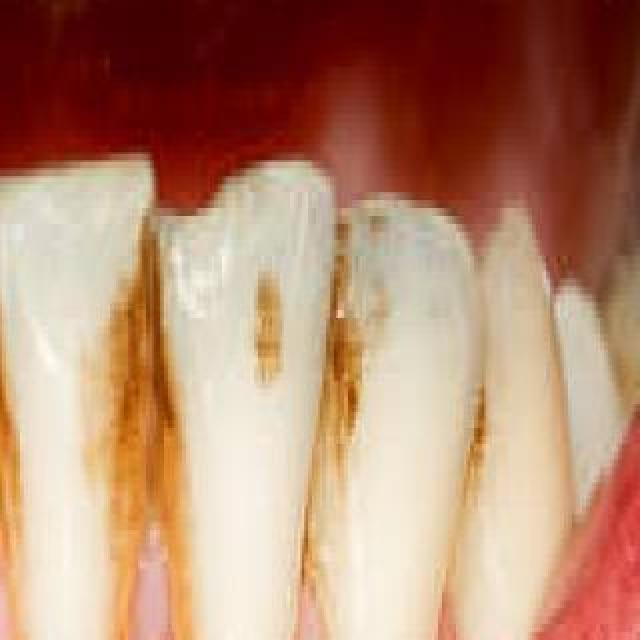stains: (77, 208, 193, 640), (215, 200, 301, 640), (310, 215, 392, 551), (0, 176, 42, 640), (435, 354, 515, 556)
